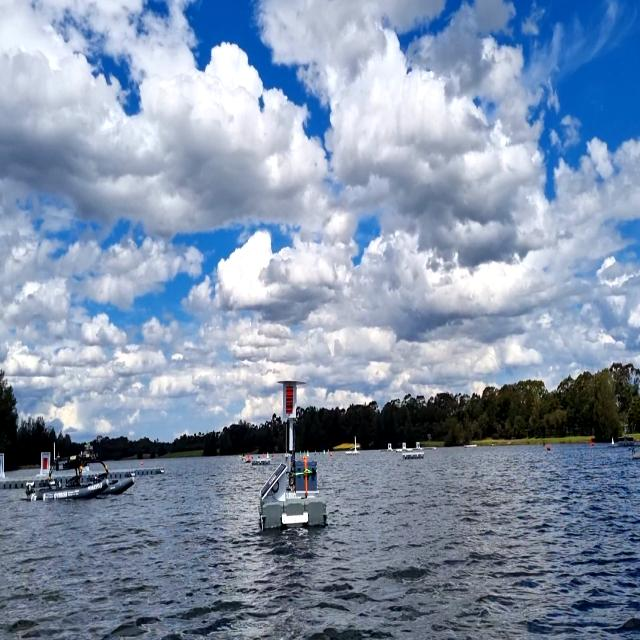led: (284, 384, 295, 416)
